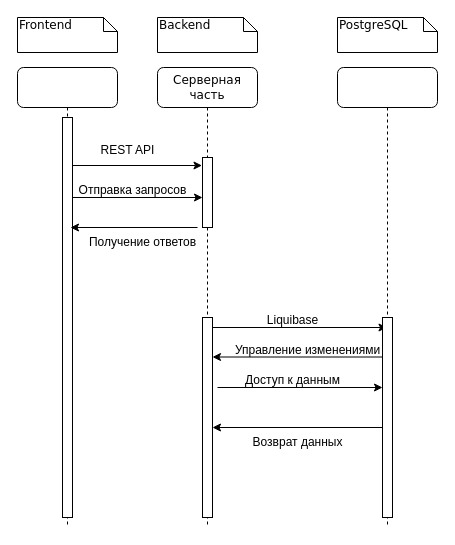
This 455x545 diagram has some shape labels left out. Here are the shapes that lost their labels. From the top down, the box of each, then its label:
(16, 66, 118, 528): Клиентская часть
(336, 66, 438, 528): База данных
